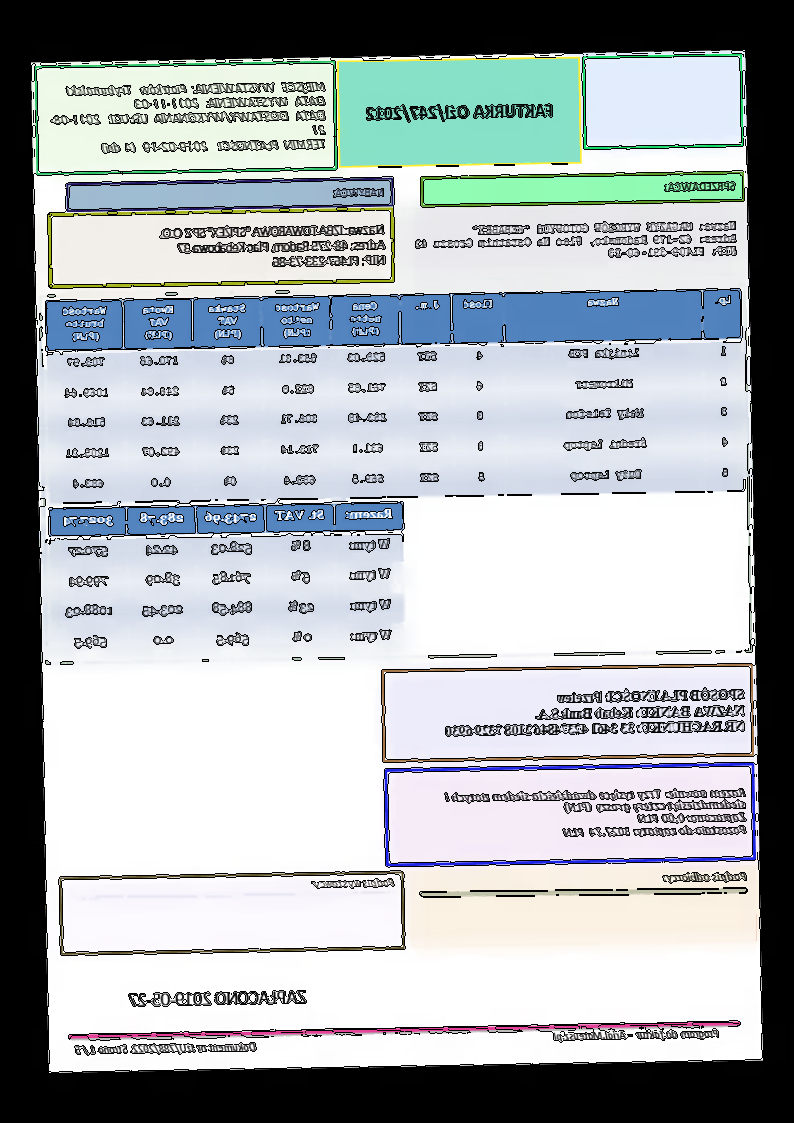Table: (45, 286, 746, 504), (49, 502, 407, 660)
TextBox: (48, 78, 330, 157), (442, 785, 748, 842), (443, 685, 747, 739), (414, 219, 739, 264), (160, 223, 388, 271), (364, 101, 556, 124), (125, 986, 309, 1009), (73, 1040, 259, 1057), (550, 1026, 723, 1044), (663, 869, 750, 885), (663, 179, 738, 195), (311, 876, 396, 890), (332, 184, 388, 201)
